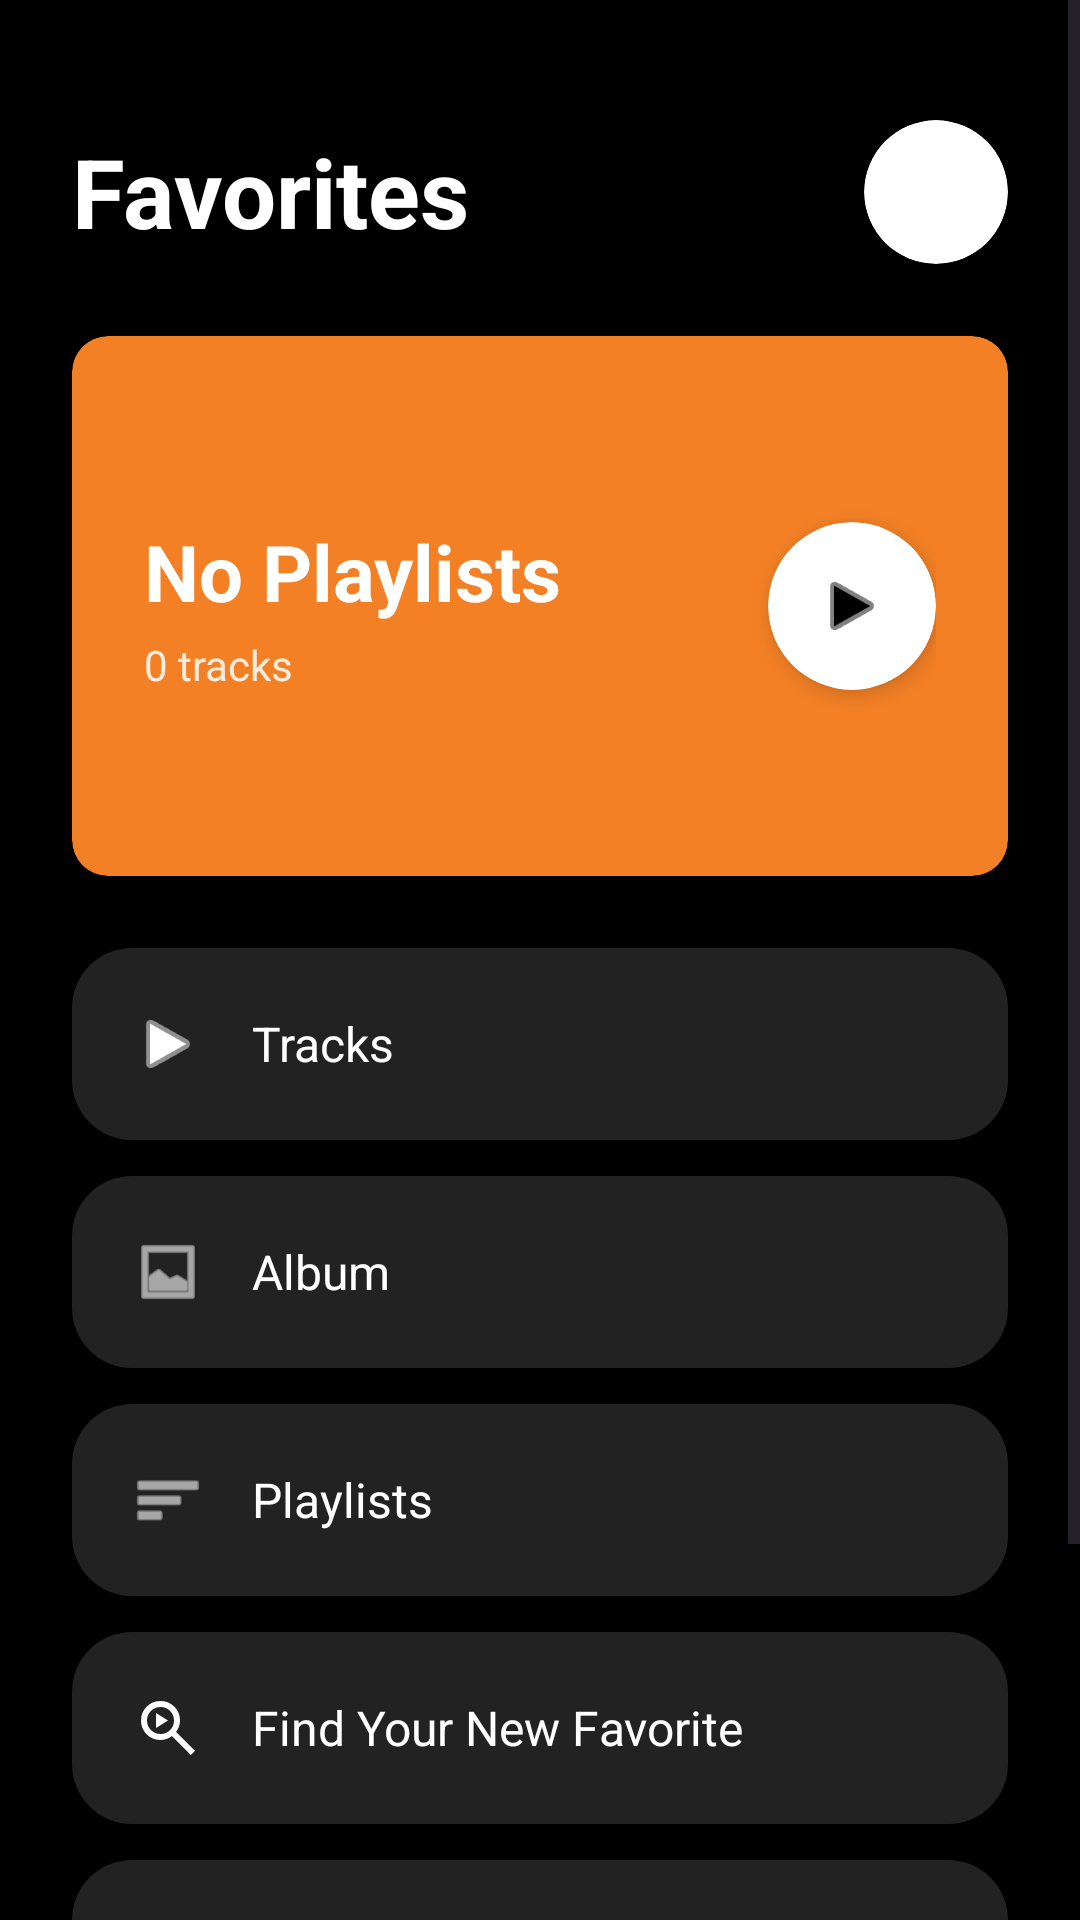

Named icons in this screenshot (1080x1920) and their bounding boxes, (x1, y1, x2, y2):
gallery: (141, 1245, 195, 1299)
play: (830, 582, 874, 630), (146, 1020, 190, 1068)
search music: (141, 1701, 195, 1755)
sort by size: (137, 1480, 199, 1521)
